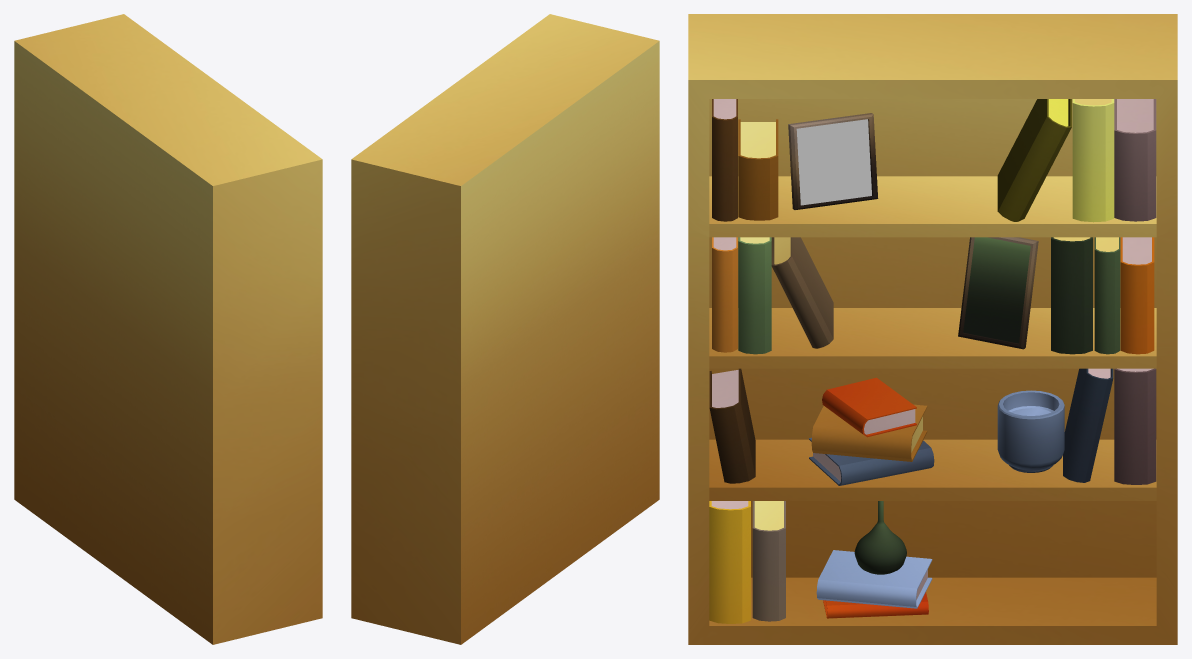
The model's file is Bookshelf.fbx.
The picture shows the model from 3 angles, left to right: view 1: azimuth 30°, elevation 25°; view 2: azimuth 150°, elevation 25°; view 3: azimuth 270°, elevation 25°; orthographic projection. The views are drawn at different scales.
Visible parts, largest first — view 1: pCube1; view 2: pCube1; view 3: pCube1, pCube23, pCube20, pCube37, pCube36, pCube35, pCube30, pCylinder1, pCube32, pCube15, pCube33, pCube34 (+14 smaller).
Part boxes in pixels (box(x1,y1,x2,y2)): pCube1: box(14, 14, 322, 644); pCube1: box(351, 14, 659, 644); pCube1: box(688, 14, 1177, 644); pCube23: box(788, 113, 878, 209); pCube20: box(958, 237, 1038, 349); pCube37: box(997, 99, 1071, 221); pCube36: box(1072, 99, 1114, 222); pCube35: box(1114, 99, 1156, 221); pCube30: box(709, 501, 750, 623); pCylinder1: box(997, 390, 1064, 472); pCube32: box(1114, 368, 1156, 484); pCube15: box(1051, 237, 1092, 354); pCube33: box(816, 550, 932, 608); pCube34: box(709, 368, 755, 483).
Bounding box in the file's own units: 3.65 × 13.9 × 10.91.
